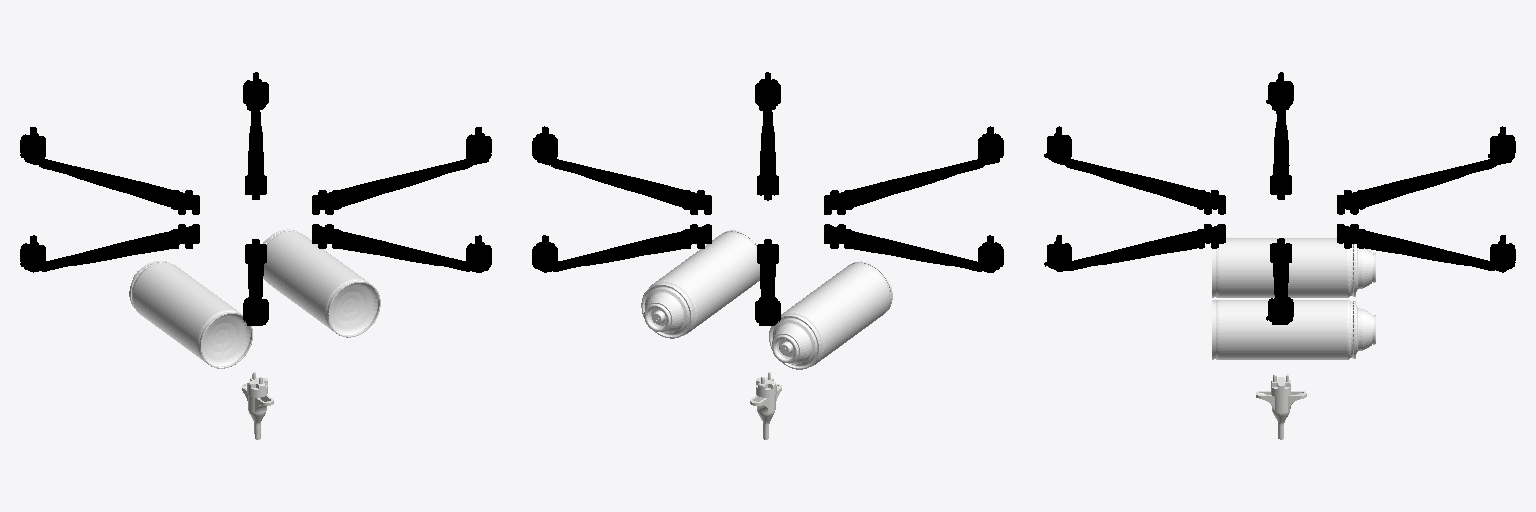
--- Render facts (derived) ---
The picture shows the robot from 3 angles, left to right: view 1: azimuth 30°, elevation 25°; view 2: azimuth 150°, elevation 25°; view 3: azimuth 270°, elevation 25°; orthographic projection.
Model wasp with 8 links and 7 joints (6 continuous, 1 fixed), rooted at base_link, posed all joints at 0.
Links seen in each view (by area): view 1: base_link, nozzle_link; view 2: base_link, nozzle_link; view 3: base_link, nozzle_link.
Link boxes in pixels (x1,y1,x2,y2): base_link: [20, 72, 491, 368]; nozzle_link: [242, 372, 273, 439]; base_link: [532, 72, 1003, 369]; nozzle_link: [750, 372, 781, 439]; base_link: [1044, 72, 1515, 359]; nozzle_link: [1256, 374, 1306, 439].
Size in the robot's own frame: 0.5863 by 0.5138 by 0.3075 metres.
15 mesh visuals loaded from 11 distinct referenced files (4 Collada DAE); not drawn: 14 (reference not matched to a file when rendering).

robot.urdf — wasp:
<?xml version="1.0" encoding="utf-8"?>
<!-- =================================================================================== -->
<!-- |    This document was autogenerated by xacro from drone.urdf.xacro               | -->
<!-- |    EDITING THIS FILE BY HAND IS NOT RECOMMENDED                                 | -->
<!-- =================================================================================== -->
<robot name="wasp">
  <material name="black">
    <color rgba="0.0 0.0 0.0 1.0"/>
  </material>
  <material name="blue">
    <color rgba="0.0 0.0 0.8 1.0"/>
  </material>
  <material name="green">
    <color rgba="0.0 0.8 0.0 1.0"/>
  </material>
  <material name="grey">
    <color rgba="0.2 0.2 0.2 1.0"/>
  </material>
  <material name="orange">
    <color rgba="1.0 0.423529411765 0.0392156862745 1.0"/>
  </material>
  <material name="brown">
    <color rgba="0.870588235294 0.811764705882 0.764705882353 1.0"/>
  </material>
  <material name="red">
    <color rgba="0.8 0.0 0.0 1.0"/>
  </material>
  <material name="white">
    <color rgba="1.0 1.0 1.0 1.0"/>
  </material>
  <link name="base_link">
    <inertial>
      <origin rpy="0 0 0" xyz="0.00158 0.00084 -0.06501"/>
      <mass value="3.67"/>
      <inertia ixx="0.03" ixy="0.0" ixz="0.0" iyy="0.032" iyz="0.0" izz="0.0050"/>
    </inertial>
    <!--
    <collision name="frame">
      <origin xyz="0 0 0.02" rpy="0 0 0"/>
      <geometry>
        <cylinder length="0.04" radius="0.3"/>
      </geometry>
    </collision>
    <collision name="rollcage">
      <origin xyz="0 0 0.066" rpy="0 0 0"/>
      <geometry>
        <cylinder length="0.06" radius="0.10"/>
      </geometry>
    </collision>
    -->
    <collision name="lander">
      <origin rpy="0 0 0" xyz="0 0 -0.22"/>
      <geometry>
        <box size="0.3 0.2 0.16"/>
      </geometry>
    </collision>
    <visual>
      <origin rpy="0 0 0" xyz="0 0 0"/>
      <geometry>
        <mesh filename="package://wasp_gazebo/meshes/WASP_CORE.dae"/>
      </geometry>
    </visual>
    <visual>
      <origin rpy="0 0 0" xyz="0 0 0"/>
      <geometry>
        <mesh filename="package://wasp_gazebo/meshes/WASP_TOP.dae"/>
      </geometry>
    </visual>
    <visual>
      <origin rpy="0 0 0" xyz="0 0 -0.002"/>
      <geometry>
        <mesh filename="package://wasp_gazebo/meshes/WASP_CAGE.dae"/>
      </geometry>
    </visual>
    <visual>
      <origin rpy="0 0 0" xyz="0 0 -0.14"/>
      <geometry>
        <mesh filename="package://wasp_gazebo/meshes/WASP_EXTRUDER_MOUNT.dae"/>
      </geometry>
    </visual>
    <visual name="arm_0">
      <origin rpy="0 0 1.57079632679" xyz="0.075 0.0 -0.0062"/>
      <geometry>
        <mesh filename="package://wasp_gazebo/meshes/WASP_ARM.dae"/>
      </geometry>
      <material name="black"/>
    </visual>
    <visual name="motor_0">
      <origin rpy="0 0 0" xyz="0.2794 0.0 -0.0062"/>
      <geometry>
        <mesh filename="package://wasp_gazebo/meshes/WASP_MOTOR.dae"/>
      </geometry>
      <material name="black"/>
    </visual>
    <visual name="arm_1">
      <origin rpy="0 0 4.71238898038" xyz="-0.075 9.18485099361e-18 -0.0062"/>
      <geometry>
        <mesh filename="package://wasp_gazebo/meshes/WASP_ARM.dae"/>
      </geometry>
      <material name="black"/>
    </visual>
    <visual name="motor_1">
      <origin rpy="0 0 0" xyz="-0.2794 3.42166315682e-17 -0.0062"/>
      <geometry>
        <mesh filename="package://wasp_gazebo/meshes/WASP_MOTOR.dae"/>
      </geometry>
      <material name="black"/>
    </visual>
    <visual name="arm_2">
      <origin rpy="0 0 2.61799387799" xyz="0.0375 0.0649519052838 -0.0062"/>
      <geometry>
        <mesh filename="package://wasp_gazebo/meshes/WASP_ARM.dae"/>
      </geometry>
      <material name="black"/>
    </visual>
    <visual name="motor_2">
      <origin rpy="0 0 0" xyz="0.1397 0.241967497817 -0.0062"/>
      <geometry>
        <mesh filename="package://wasp_gazebo/meshes/WASP_MOTOR.dae"/>
      </geometry>
      <material name="black"/>
    </visual>
    <visual name="arm_3">
      <origin rpy="0 0 5.75958653158" xyz="-0.0375 -0.0649519052838 -0.0062"/>
      <geometry>
        <mesh filename="package://wasp_gazebo/meshes/WASP_ARM.dae"/>
      </geometry>
      <material name="black"/>
    </visual>
    <visual name="motor_3">
      <origin rpy="0 0 0" xyz="-0.1397 -0.241967497817 -0.0062"/>
      <geometry>
        <mesh filename="package://wasp_gazebo/meshes/WASP_MOTOR.dae"/>
      </geometry>
      <material name="black"/>
    </visual>
    <visual name="arm_4">
      <origin rpy="0 0 3.66519142919" xyz="-0.0375 0.0649519052838 -0.0062"/>
      <geometry>
        <mesh filename="package://wasp_gazebo/meshes/WASP_ARM.dae"/>
      </geometry>
      <material name="black"/>
    </visual>
    <visual name="motor_4">
      <origin rpy="0 0 0" xyz="-0.1397 0.241967497817 -0.0062"/>
      <geometry>
        <mesh filename="package://wasp_gazebo/meshes/WASP_MOTOR.dae"/>
      </geometry>
      <material name="black"/>
    </visual>
    <visual name="arm_5">
      <origin rpy="0 0 6.80678408278" xyz="0.0375 -0.0649519052838 -0.0062"/>
      <geometry>
        <mesh filename="package://wasp_gazebo/meshes/WASP_ARM.dae"/>
      </geometry>
      <material name="black"/>
    </visual>
    <visual name="motor_5">
      <origin rpy="0 0 0" xyz="0.1397 -0.241967497817 -0.0062"/>
      <geometry>
        <mesh filename="package://wasp_gazebo/meshes/WASP_MOTOR.dae"/>
      </geometry>
      <material name="black"/>
    </visual>
    <visual name="leg_0">
      <origin rpy="0 0 2.10326965791" xyz="0.0637550020231 0.0375672692251 -0.206"/>
      <geometry>
        <mesh filename="package://wasp_gazebo/meshes/WASP_LEG.dae"/>
      </geometry>
      <material name="black"/>
    </visual>
    <visual name="leg_1">
      <origin rpy="0 0 1.03832299568" xyz="0.0637550020231 -0.0375672692251 -0.206"/>
      <geometry>
        <mesh filename="package://wasp_gazebo/meshes/WASP_LEG.dae"/>
      </geometry>
      <material name="black"/>
    </visual>
    <visual name="leg_2">
      <origin rpy="0 0 5.2448623115" xyz="-0.0637550020231 -0.0375672692251 -0.206"/>
      <geometry>
        <mesh filename="package://wasp_gazebo/meshes/WASP_LEG.dae"/>
      </geometry>
      <material name="black"/>
    </visual>
    <visual name="leg_3">
      <origin rpy="0 0 4.17991564927" xyz="-0.0637550020231 0.0375672692251 -0.206"/>
      <geometry>
        <mesh filename="package://wasp_gazebo/meshes/WASP_LEG.dae"/>
      </geometry>
      <material name="black"/>
    </visual>
    <visual name="cannister_0">
      <origin rpy="-1.57079632679 0 0" xyz="0.08 -0.076 -0.112"/>
      <geometry>
        <mesh filename="package://wasp_gazebo/meshes/WASP_CANNISTER.dae"/>
      </geometry>
      <material name="white"/>
    </visual>
    <visual name="cannister_1">
      <origin rpy="-1.57079632679 0 0" xyz="-0.08 -0.076 -0.112"/>
      <geometry>
        <mesh filename="package://wasp_gazebo/meshes/WASP_CANNISTER.dae"/>
      </geometry>
      <material name="white"/>
    </visual>
  </link>
  <link name="nozzle_link">
    <inertial>
      <origin rpy="0 0 0" xyz="0 0 0"/>
      <mass value="0.01"/>
      <inertia ixx="0.0001" ixy="0.0" ixz="0.0" iyy="0.0001" iyz="0.0" izz="0.0001"/>
    </inertial>
    <visual>
      <origin rpy="0 0 1.57079632679" xyz="0 0 0"/>
      <geometry>
        <mesh filename="package://wasp_gazebo/meshes/WASP_NOZZLE.dae"/>
      </geometry>
    </visual>
  </link>
  <joint name="nozzle_joint" type="fixed">
    <parent link="base_link"/>
    <child link="nozzle_link"/>
    <origin rpy="0 0 0" xyz="-0.059 0.023 -0.286"/>
  </joint>
  <joint name="rotor_0_joint" type="continuous">
    <parent link="base_link"/>
    <child link="rotor_0"/>
    <origin rpy="0 0 0" xyz="0.2794 0.0 0.029"/>
    <axis xyz="0 0 1"/>
    <dynamics damping="0.004"/>
  </joint>
  <link name="rotor_0">
    <collision>
      <origin rpy="0 0 0" xyz="0 0 0"/>
      <geometry>
        <cylinder length="0.01" radius="0.13"/>
      </geometry>
    </collision>
    <inertial>
      <origin rpy="0 0 0" xyz="0 0 0"/>
      <mass value="0.025"/>
      <inertia ixx="9.750e-06" ixy="0.0" ixz="0.0" iyy="166.7e-06" iyz="0.0" izz="166.7e-06"/>
    </inertial>
    <visual>
      <origin rpy="0 0 0" xyz="0 0 0"/>
      <geometry>
        <mesh filename="package://wasp_gazebo/meshes/WASP_PROP_CW.dae"/>
      </geometry>
      <material name="blue"/>
    </visual>
  </link>
  <joint name="rotor_1_joint" type="continuous">
    <parent link="base_link"/>
    <child link="rotor_1"/>
    <origin rpy="0 0 0" xyz="-0.2794 3.42166315682e-17 0.029"/>
    <axis xyz="0 0 1"/>
    <dynamics damping="0.004"/>
  </joint>
  <link name="rotor_1">
    <collision>
      <origin rpy="0 0 0" xyz="0 0 0"/>
      <geometry>
        <cylinder length="0.01" radius="0.13"/>
      </geometry>
    </collision>
    <inertial>
      <origin rpy="0 0 0" xyz="0 0 0"/>
      <mass value="0.025"/>
      <inertia ixx="9.750e-06" ixy="0.0" ixz="0.0" iyy="166.7e-06" iyz="0.0" izz="166.7e-06"/>
    </inertial>
    <visual>
      <origin rpy="0 0 0" xyz="0 0 0"/>
      <geometry>
        <mesh filename="package://wasp_gazebo/meshes/WASP_PROP_CCW.dae"/>
      </geometry>
      <material name="red"/>
    </visual>
  </link>
  <joint name="rotor_2_joint" type="continuous">
    <parent link="base_link"/>
    <child link="rotor_2"/>
    <origin rpy="0 0 0" xyz="0.1397 0.241967497817 0.029"/>
    <axis xyz="0 0 1"/>
    <dynamics damping="0.004"/>
  </joint>
  <link name="rotor_2">
    <collision>
      <origin rpy="0 0 0" xyz="0 0 0"/>
      <geometry>
        <cylinder length="0.01" radius="0.13"/>
      </geometry>
    </collision>
    <inertial>
      <origin rpy="0 0 0" xyz="0 0 0"/>
      <mass value="0.025"/>
      <inertia ixx="9.750e-06" ixy="0.0" ixz="0.0" iyy="166.7e-06" iyz="0.0" izz="166.7e-06"/>
    </inertial>
    <visual>
      <origin rpy="0 0 0" xyz="0 0 0"/>
      <geometry>
        <mesh filename="package://wasp_gazebo/meshes/WASP_PROP_CCW.dae"/>
      </geometry>
      <material name="red"/>
    </visual>
  </link>
  <joint name="rotor_3_joint" type="continuous">
    <parent link="base_link"/>
    <child link="rotor_3"/>
    <origin rpy="0 0 0" xyz="-0.1397 -0.241967497817 0.029"/>
    <axis xyz="0 0 1"/>
    <dynamics damping="0.004"/>
  </joint>
  <link name="rotor_3">
    <collision>
      <origin rpy="0 0 0" xyz="0 0 0"/>
      <geometry>
        <cylinder length="0.01" radius="0.13"/>
      </geometry>
    </collision>
    <inertial>
      <origin rpy="0 0 0" xyz="0 0 0"/>
      <mass value="0.025"/>
      <inertia ixx="9.750e-06" ixy="0.0" ixz="0.0" iyy="166.7e-06" iyz="0.0" izz="166.7e-06"/>
    </inertial>
    <visual>
      <origin rpy="0 0 0" xyz="0 0 0"/>
      <geometry>
        <mesh filename="package://wasp_gazebo/meshes/WASP_PROP_CW.dae"/>
      </geometry>
      <material name="blue"/>
    </visual>
  </link>
  <joint name="rotor_4_joint" type="continuous">
    <parent link="base_link"/>
    <child link="rotor_4"/>
    <origin rpy="0 0 0" xyz="-0.1397 0.241967497817 0.029"/>
    <axis xyz="0 0 1"/>
    <dynamics damping="0.004"/>
  </joint>
  <link name="rotor_4">
    <collision>
      <origin rpy="0 0 0" xyz="0 0 0"/>
      <geometry>
        <cylinder length="0.01" radius="0.13"/>
      </geometry>
    </collision>
    <inertial>
      <origin rpy="0 0 0" xyz="0 0 0"/>
      <mass value="0.025"/>
      <inertia ixx="9.750e-06" ixy="0.0" ixz="0.0" iyy="166.7e-06" iyz="0.0" izz="166.7e-06"/>
    </inertial>
    <visual>
      <origin rpy="0 0 0" xyz="0 0 0"/>
      <geometry>
        <mesh filename="package://wasp_gazebo/meshes/WASP_PROP_CW.dae"/>
      </geometry>
      <material name="blue"/>
    </visual>
  </link>
  <joint name="rotor_5_joint" type="continuous">
    <parent link="base_link"/>
    <child link="rotor_5"/>
    <origin rpy="0 0 0" xyz="0.1397 -0.241967497817 0.029"/>
    <axis xyz="0 0 1"/>
    <dynamics damping="0.004"/>
  </joint>
  <link name="rotor_5">
    <collision>
      <origin rpy="0 0 0" xyz="0 0 0"/>
      <geometry>
        <cylinder length="0.01" radius="0.13"/>
      </geometry>
    </collision>
    <inertial>
      <origin rpy="0 0 0" xyz="0 0 0"/>
      <mass value="0.025"/>
      <inertia ixx="9.750e-06" ixy="0.0" ixz="0.0" iyy="166.7e-06" iyz="0.0" izz="166.7e-06"/>
    </inertial>
    <visual>
      <origin rpy="0 0 0" xyz="0 0 0"/>
      <geometry>
        <mesh filename="package://wasp_gazebo/meshes/WASP_PROP_CCW.dae"/>
      </geometry>
      <material name="red"/>
    </visual>
  </link>
  <gazebo reference="base_link">
    <selfCollide>false</selfCollide>
    <maxVel>100.0</maxVel>
    <minDepth>0.001</minDepth>
    <mu1 value="200.0"/>
    <mu2 value="100.0"/>
    <kp value="10000000.0"/>
    <kd value="1.0"/>
    <!--     <material>Gazebo/Black</material> -->
  </gazebo>
  <gazebo reference="rotor_0">
    <material>
      Gazebo/Blue
    </material>
  </gazebo>
  <gazebo reference="rotor_1">
    <material>
      Gazebo/Red
    </material>
  </gazebo>
  <gazebo reference="rotor_2">
    <material>
      Gazebo/Red
    </material>
  </gazebo>
  <gazebo reference="rotor_3">
    <material>
      Gazebo/Blue
    </material>
  </gazebo>
  <gazebo reference="rotor_4">
    <material>
      Gazebo/Blue
    </material>
  </gazebo>
  <gazebo reference="rotor_5">
    <material>
      Gazebo/Red
    </material>
  </gazebo>
  <gazebo reference="nozzle_link">
    <visual name="extruder">
      <pose frame="">0 0 -0.05 0 0 0</pose>
      <geometry>
        <sphere>
          <radius>0.01</radius>
        </sphere>
      </geometry>
      <plugin filename="libwasp_gazebo.so" name="foamer">
        <particleSize>0.02</particleSize>
      </plugin>
    </visual>
    <material>Gazebo/White</material>
  </gazebo>
  <gazebo>
    <link name="wasp/imu_link">
      <pose>0 0 0 0 0 0</pose>
      <inertial>
        <pose>0 0 0 0 0 0</pose>
        <mass>0.015</mass>
        <inertia>
          <ixx>1e-05</ixx>
          <ixy>0</ixy>
          <ixz>0</ixz>
          <iyy>1e-05</iyy>
          <iyz>0</iyz>
          <izz>1e-05</izz>
        </inertia>
      </inertial>
    </link>
    <joint name="wasp/imu_joint" type="revolute">
      <child>wasp/imu_link</child>
      <parent>base_link</parent>
      <axis>
        <xyz>1 0 0</xyz>
        <limit>
          <lower>0</lower>
          <upper>0</upper>
          <effort>0</effort>
          <velocity>0</velocity>
        </limit>
        <dynamics>
          <spring_reference>0</spring_reference>
          <spring_stiffness>0</spring_stiffness>
        </dynamics>
        <use_parent_model_frame>1</use_parent_model_frame>
      </axis>
    </joint>
    <!-- Comment this section to disable GPS -->
    <!--    <include>
      <uri>model://gps</uri>
      <pose>0 0 0 0 0 0</pose>
      <name>gps</name>
    </include>
    <joint name='gps_joint' type='fixed'>
      <child>gps::link</child>
      <parent>base_link</parent>
    </joint>-->
    <plugin filename="libgazebo_multirotor_base_plugin.so" name="rosbag">
      <robotNamespace/>
      <linkName>base_link</linkName>
      <rotorVelocitySlowdownSim>10</rotorVelocitySlowdownSim>
    </plugin>
    <plugin filename="libgazebo_motor_model.so" name="rotor_plugin_0">
      <robotNamespace/>
      <jointName>rotor_0_joint</jointName>
      <linkName>rotor_0</linkName>
      <turningDirection>
        cw
      </turningDirection>
      <timeConstantUp>0.0125</timeConstantUp>
      <timeConstantDown>0.025</timeConstantDown>
      <maxRotVelocity>1500</maxRotVelocity>
      <motorConstant>8.54858e-06</motorConstant>
      <momentConstant>0.06</momentConstant>
      <commandSubTopic>/gazebo/command/motor_speed</commandSubTopic>
      <motorNumber>5</motorNumber>
      <rotorDragCoefficient>0.000806428</rotorDragCoefficient>
      <rollingMomentCoefficient>1e-06</rollingMomentCoefficient>
      <motorSpeedPubTopic>/motor_speed/5</motorSpeedPubTopic>
      <rotorVelocitySlowdownSim>10</rotorVelocitySlowdownSim>
    </plugin>
    <plugin filename="libgazebo_motor_model.so" name="rotor_plugin_1">
      <robotNamespace/>
      <jointName>rotor_1_joint</jointName>
      <linkName>rotor_1</linkName>
      <turningDirection>
        ccw
      </turningDirection>
      <timeConstantUp>0.0125</timeConstantUp>
      <timeConstantDown>0.025</timeConstantDown>
      <maxRotVelocity>1500</maxRotVelocity>
      <motorConstant>8.54858e-06</motorConstant>
      <momentConstant>0.06</momentConstant>
      <commandSubTopic>/gazebo/command/motor_speed</commandSubTopic>
      <motorNumber>4</motorNumber>
      <rotorDragCoefficient>0.000806428</rotorDragCoefficient>
      <rollingMomentCoefficient>1e-06</rollingMomentCoefficient>
      <motorSpeedPubTopic>/motor_speed/4</motorSpeedPubTopic>
      <rotorVelocitySlowdownSim>10</rotorVelocitySlowdownSim>
    </plugin>
    <plugin filename="libgazebo_motor_model.so" name="rotor_plugin_2">
      <robotNamespace/>
      <jointName>rotor_2_joint</jointName>
      <linkName>rotor_2</linkName>
      <turningDirection>
        ccw
      </turningDirection>
      <timeConstantUp>0.0125</timeConstantUp>
      <timeConstantDown>0.025</timeConstantDown>
      <maxRotVelocity>1500</maxRotVelocity>
      <motorConstant>8.54858e-06</motorConstant>
      <momentConstant>0.06</momentConstant>
      <commandSubTopic>/gazebo/command/motor_speed</commandSubTopic>
      <motorNumber>3</motorNumber>
      <rotorDragCoefficient>0.000806428</rotorDragCoefficient>
      <rollingMomentCoefficient>1e-06</rollingMomentCoefficient>
      <motorSpeedPubTopic>/motor_speed/3</motorSpeedPubTopic>
      <rotorVelocitySlowdownSim>10</rotorVelocitySlowdownSim>
    </plugin>
    <plugin filename="libgazebo_motor_model.so" name="rotor_plugin_3">
      <robotNamespace/>
      <jointName>rotor_3_joint</jointName>
      <linkName>rotor_3</linkName>
      <turningDirection>
        cw
      </turningDirection>
      <timeConstantUp>0.0125</timeConstantUp>
      <timeConstantDown>0.025</timeConstantDown>
      <maxRotVelocity>1500</maxRotVelocity>
      <motorConstant>8.54858e-06</motorConstant>
      <momentConstant>0.06</momentConstant>
      <commandSubTopic>/gazebo/command/motor_speed</commandSubTopic>
      <motorNumber>2</motorNumber>
      <rotorDragCoefficient>0.000806428</rotorDragCoefficient>
      <rollingMomentCoefficient>1e-06</rollingMomentCoefficient>
      <motorSpeedPubTopic>/motor_speed/2</motorSpeedPubTopic>
      <rotorVelocitySlowdownSim>10</rotorVelocitySlowdownSim>
    </plugin>
    <plugin filename="libgazebo_motor_model.so" name="rotor_plugin_4">
      <robotNamespace/>
      <jointName>rotor_4_joint</jointName>
      <linkName>rotor_4</linkName>
      <turningDirection>
        cw
      </turningDirection>
      <timeConstantUp>0.0125</timeConstantUp>
      <timeConstantDown>0.025</timeConstantDown>
      <maxRotVelocity>1500</maxRotVelocity>
      <motorConstant>8.54858e-06</motorConstant>
      <momentConstant>0.06</momentConstant>
      <commandSubTopic>/gazebo/command/motor_speed</commandSubTopic>
      <motorNumber>1</motorNumber>
      <rotorDragCoefficient>0.000806428</rotorDragCoefficient>
      <rollingMomentCoefficient>1e-06</rollingMomentCoefficient>
      <motorSpeedPubTopic>/motor_speed/1</motorSpeedPubTopic>
      <rotorVelocitySlowdownSim>10</rotorVelocitySlowdownSim>
    </plugin>
    <plugin filename="libgazebo_motor_model.so" name="rotor_plugin_5">
      <robotNamespace/>
      <jointName>rotor_5_joint</jointName>
      <linkName>rotor_5</linkName>
      <turningDirection>
        ccw
      </turningDirection>
      <timeConstantUp>0.0125</timeConstantUp>
      <timeConstantDown>0.025</timeConstantDown>
      <maxRotVelocity>1500</maxRotVelocity>
      <motorConstant>8.54858e-06</motorConstant>
      <momentConstant>0.06</momentConstant>
      <commandSubTopic>/gazebo/command/motor_speed</commandSubTopic>
      <motorNumber>0</motorNumber>
      <rotorDragCoefficient>0.000806428</rotorDragCoefficient>
      <rollingMomentCoefficient>1e-06</rollingMomentCoefficient>
      <motorSpeedPubTopic>/motor_speed/0</motorSpeedPubTopic>
      <rotorVelocitySlowdownSim>10</rotorVelocitySlowdownSim>
    </plugin>
    <plugin filename="libgazebo_groundtruth_plugin.so" name="groundtruth_plugin">
      <robotNamespace/>
    </plugin>
    <plugin filename="libgazebo_magnetometer_plugin.so" name="magnetometer_plugin">
      <robotNamespace/>
      <pubRate>100</pubRate>
      <noiseDensity>0.0004</noiseDensity>
      <randomWalk>6.4e-06</randomWalk>
      <biasCorrelationTime>600</biasCorrelationTime>
      <magTopic>/mag</magTopic>
    </plugin>
    <plugin filename="libgazebo_barometer_plugin.so" name="barometer_plugin">
      <robotNamespace/>
      <pubRate>50</pubRate>
      <baroTopic>/baro</baroTopic>
    </plugin>
    <plugin filename="libgazebo_mavlink_interface.so" name="mavlink_interface">
      <robotNamespace/>
      <imuSubTopic>/imu</imuSubTopic>
      <magSubTopic>/mag</magSubTopic>
      <baroSubTopic>/baro</baroSubTopic>
      <mavlink_addr>INADDR_ANY</mavlink_addr>
      <mavlink_tcp_port>4560</mavlink_tcp_port>
      <mavlink_udp_port>14560</mavlink_udp_port>
      <serialEnabled>0</serialEnabled>
      <serialDevice>/dev/ttyACM0</serialDevice>
      <baudRate>921600</baudRate>
      <qgc_addr>INADDR_ANY</qgc_addr>
      <qgc_udp_port>14550</qgc_udp_port>
      <sdk_addr>INADDR_ANY</sdk_addr>
      <sdk_udp_port>14540</sdk_udp_port>
      <hil_mode>0</hil_mode>
      <hil_state_level>false</hil_state_level>
      <enable_lockstep>true</enable_lockstep>
      <use_tcp>true</use_tcp>
      <motorSpeedCommandPubTopic>/gazebo/command/motor_speed</motorSpeedCommandPubTopic>
      <control_channels>
        <channel name="rotor0">
          <input_index>0</input_index>
          <input_offset>0</input_offset>
          <input_scaling>1500</input_scaling>
          <zero_position_disarmed>0</zero_position_disarmed>
          <zero_position_armed>100</zero_position_armed>
          <joint_control_type>velocity</joint_control_type>
        </channel>
        <channel name="rotor1">
          <input_index>1</input_index>
          <input_offset>0</input_offset>
          <input_scaling>1500</input_scaling>
          <zero_position_disarmed>0</zero_position_disarmed>
          <zero_position_armed>100</zero_position_armed>
          <joint_control_type>velocity</joint_control_type>
        </channel>
        <channel name="rotor2">
          <input_index>2</input_index>
          <input_offset>0</input_offset>
          <input_scaling>1500</input_scaling>
          <zero_position_disarmed>0</zero_position_disarmed>
          <zero_position_armed>100</zero_position_armed>
          <joint_control_type>velocity</joint_control_type>
        </channel>
        <channel name="rotor3">
          <input_index>3</input_index>
          <input_offset>0</input_offset>
          <input_scaling>1500</input_scaling>
          <zero_position_disarmed>0</zero_position_disarmed>
          <zero_position_armed>100</zero_position_armed>
          <joint_control_type>velocity</joint_control_type>
        </channel>
        <channel name="rotor4">
          <input_index>4</input_index>
          <input_offset>0</input_offset>
          <input_scaling>1500</input_scaling>
          <zero_position_disarmed>0</zero_position_disarmed>
          <zero_position_armed>100</zero_position_armed>
          <joint_control_type>velocity</joint_control_type>
        </channel>
        <channel name="rotor5">
          <input_index>5</input_index>
          <input_offset>0</input_offset>
          <input_scaling>1500</input_scaling>
          <zero_position_disarmed>0</zero_position_disarmed>
          <zero_position_armed>100</zero_position_armed>
          <joint_control_type>velocity</joint_control_type>
        </channel>
      </control_channels>
    </plugin>
    <plugin filename="libgazebo_imu_plugin.so" name="gazebo_imu_plugin">
      <robotNamespace/>
      <linkName>wasp/imu_link</linkName>
      <imuTopic>/imu</imuTopic>
      <gyroscopeNoiseDensity>0.0003394</gyroscopeNoiseDensity>
      <gyroscopeRandomWalk>3.8785e-05</gyroscopeRandomWalk>
      <gyroscopeBiasCorrelationTime>1000.0</gyroscopeBiasCorrelationTime>
      <gyroscopeTurnOnBiasSigma>0.0087</gyroscopeTurnOnBiasSigma>
      <accelerometerNoiseDensity>0.004</accelerometerNoiseDensity>
      <accelerometerRandomWalk>0.006</accelerometerRandomWalk>
      <accelerometerBiasCorrelationTime>300.0</accelerometerBiasCorrelationTime>
      <accelerometerTurnOnBiasSigma>0.196</accelerometerTurnOnBiasSigma>
    </plugin>
    <!--    <plugin name='camera' filename='librealsense_gazebo_plugin.so'>
      <prefix>camera</prefix>
      <depthUpdateRate>30.0</depthUpdateRate>
      <colorUpdateRate>30.0</colorUpdateRate>
      <infraredUpdateRate>30.0</infraredUpdateRate>
      <depthTopicName>depth/image_raw</depthTopicName>
      <depthCameraInfoTopicName>depth/camera_info</depthCameraInfoTopicName>
      <colorTopicName>color/image_raw</colorTopicName>
      <colorCameraInfoTopicName>color/camera_info</colorCameraInfoTopicName>
      <infrared1TopicName>infra1/image_raw</infrared1TopicName>
      <infrared1CameraInfoTopicName>infra1/camera_info</infrared1CameraInfoTopicName>
      <infrared2TopicName>infra2/image_raw</infrared2TopicName>
      <infrared2CameraInfoTopicName>infra2/camera_info</infrared2CameraInfoTopicName>
      <colorOpticalframeName>camera_color_optical_frame</colorOpticalframeName>
      <depthOpticalframeName>camera_depth_optical_frame</depthOpticalframeName>
      <infrared1OpticalframeName>camera_left_ir_optical_frame</infrared1OpticalframeName>
      <infrared2OpticalframeName>camera_right_ir_optical_frame</infrared2OpticalframeName>
      <rangeMinDepth>0.2</rangeMinDepth>
      <rangeMaxDepth>10.0</rangeMaxDepth>
      <pointCloud>1</pointCloud>
      <pointCloudTopicName>depth/color/points</pointCloudTopicName>
      <pointCloudCutoff>0.25</pointCloudCutoff>
      <pointCloudCutoffMax>9.0</pointCloudCutoffMax>
    </plugin>-->
  </gazebo>
  <!--  <xacro:include filename="$(find realsense2_description)/urdf/_d435.urdf.xacro" />
  <xacro:sensor_d435 name="camera" topics_ns="camera" parent="base_link" publish_pointcloud="false">
    <origin xyz="0 -0.070 -0.138" rpy="0 ${pi/2} ${-pi/2}" />
  </xacro:sensor_d435>-->
</robot>
